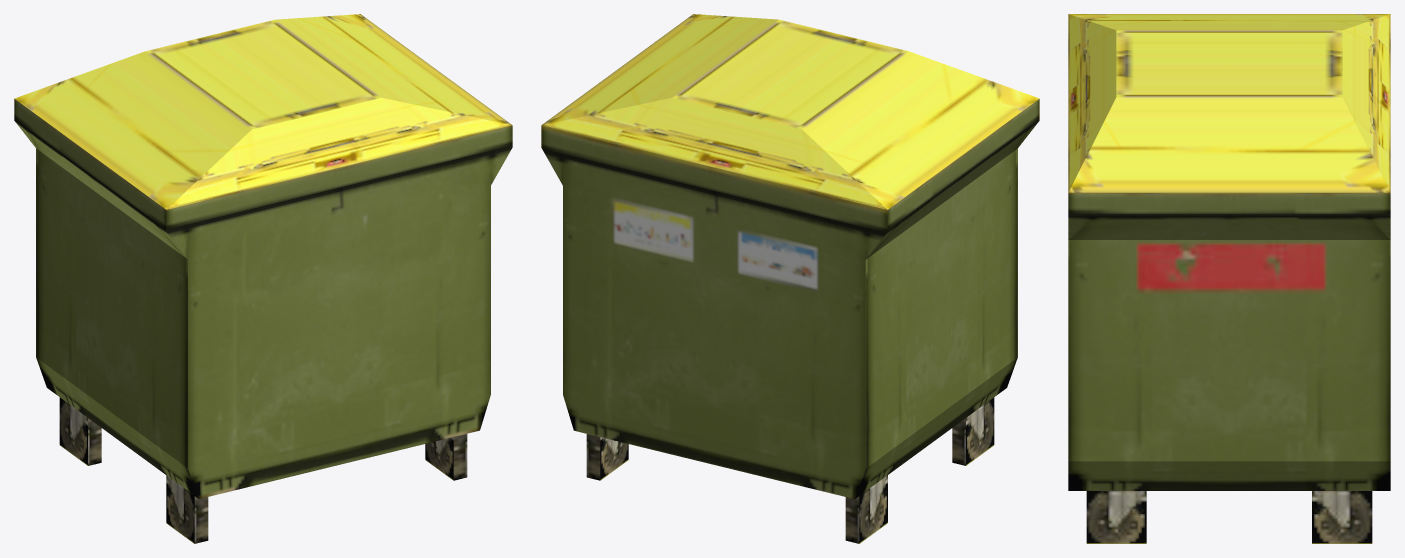
The model's file is TrashContainer01.obj.
3 renders of one model, left to right at view 1: azimuth 30°, elevation 25°; view 2: azimuth 150°, elevation 25°; view 3: azimuth 270°, elevation 25°, orthographic. The views are drawn at different scales.
Visible parts, largest first — view 1: TrashContainer01, TrashContainer01.Lid, TrashContainer01.Wheels; view 2: TrashContainer01, TrashContainer01.Lid, TrashContainer01.Wheels; view 3: TrashContainer01, TrashContainer01.Lid, TrashContainer01.Wheels.
Part boxes in pixels (x1,y1,x2,y2): TrashContainer01: (14, 99, 512, 498); TrashContainer01.Lid: (14, 14, 512, 209); TrashContainer01.Wheels: (59, 397, 467, 543); TrashContainer01: (541, 99, 1039, 498); TrashContainer01.Lid: (541, 14, 1039, 209); TrashContainer01.Wheels: (586, 397, 994, 543); TrashContainer01: (1068, 193, 1390, 490); TrashContainer01.Lid: (1068, 14, 1390, 192); TrashContainer01.Wheels: (1086, 491, 1372, 543).
Size of the model in its own units: 2.28 by 2.43 by 1.73.
